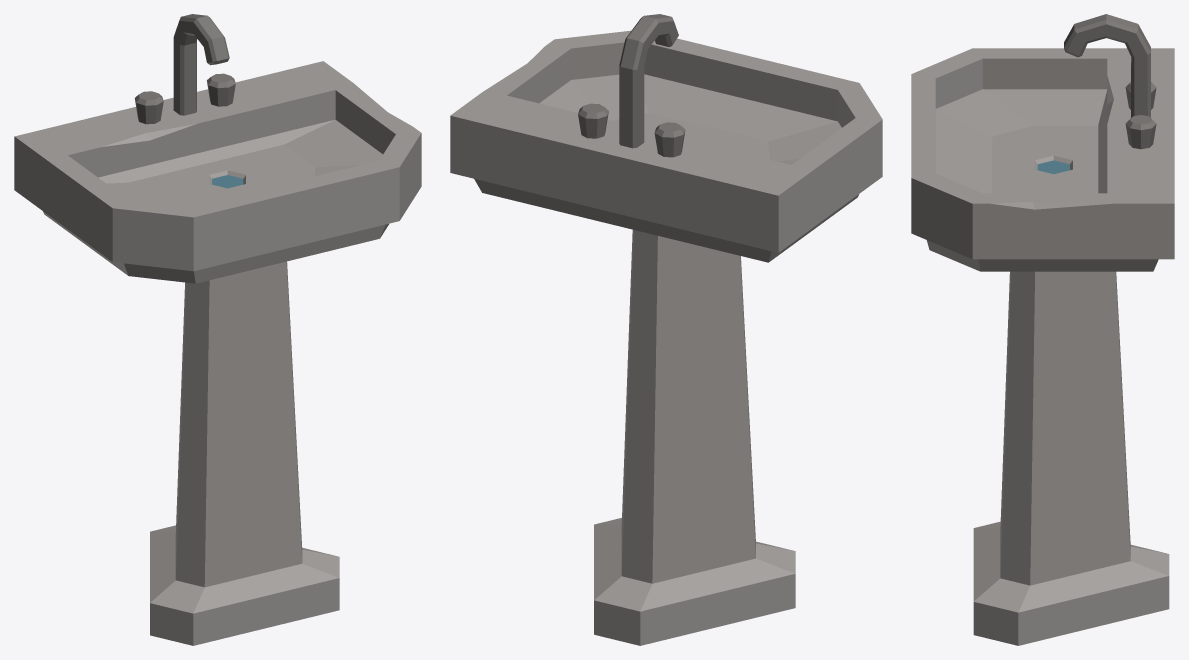
File: SM_Props_Interior_House_Bathroom_Sink_02.fbx
3 renders of one model, left to right at view 1: azimuth 30°, elevation 25°; view 2: azimuth 150°, elevation 25°; view 3: azimuth 270°, elevation 25°, orthographic. The views are drawn at different scales.
Parts seen in each view (by area): view 1: SM_Props_Interior_House_Bathroom_Sink_02; view 2: SM_Props_Interior_House_Bathroom_Sink_02; view 3: SM_Props_Interior_House_Bathroom_Sink_02.
Part boxes in pixels (box(x1,y1,x2,y2)): SM_Props_Interior_House_Bathroom_Sink_02: box(14, 14, 421, 645); SM_Props_Interior_House_Bathroom_Sink_02: box(450, 14, 882, 645); SM_Props_Interior_House_Bathroom_Sink_02: box(911, 14, 1174, 645).
Size of the model in its own units: 60 by 105 by 43.
